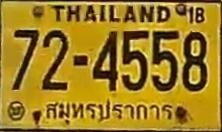2: (41, 29, 67, 89)
4: (92, 30, 117, 90)
5: (121, 29, 148, 90), (151, 30, 178, 90)
7: (12, 28, 38, 90)
8: (182, 31, 206, 90)
SPK: (42, 98, 177, 123)
